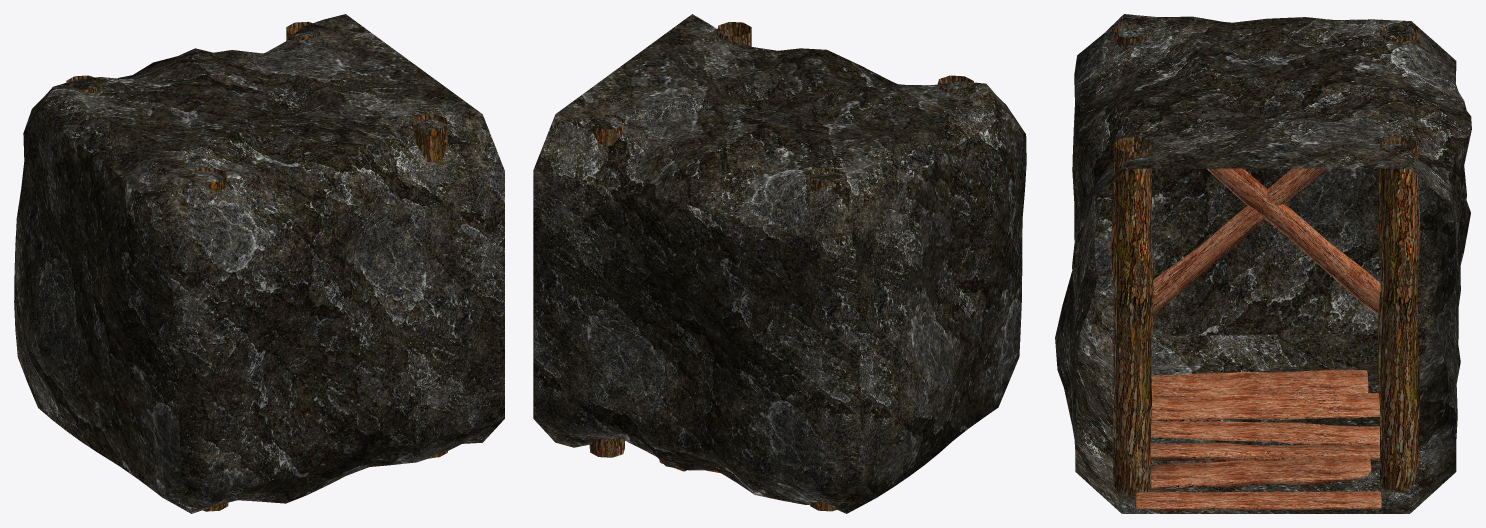
File: Cave_040.fbx
3 renders of one model, left to right at view 1: azimuth 30°, elevation 25°; view 2: azimuth 150°, elevation 25°; view 3: azimuth 270°, elevation 25°, orthographic. The views are drawn at different scales.
Parts seen in each view (by area): view 1: Cave.040; view 2: Cave.040; view 3: Cave.040.
Part boxes in pixels (left/top/right/bottom): Cave.040: left=14, top=14, right=504, bottom=513; Cave.040: left=533, top=14, right=1026, bottom=513; Cave.040: left=1055, top=14, right=1471, bottom=513.
Bounding box in the file's own units: 326 × 313 × 328.
